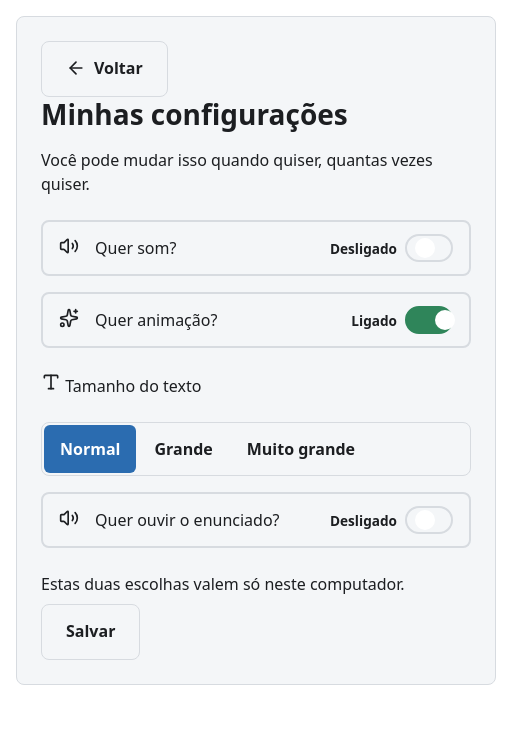
Test: StudentSensorySettings (3.9) › saves the updated profile via PATCH /users/:id/sensory-profile, same endpoint the onboarding uses
Click the switch named "quer som?" in the row of "Quer som?" at (429, 248), box [405,234,453,262]
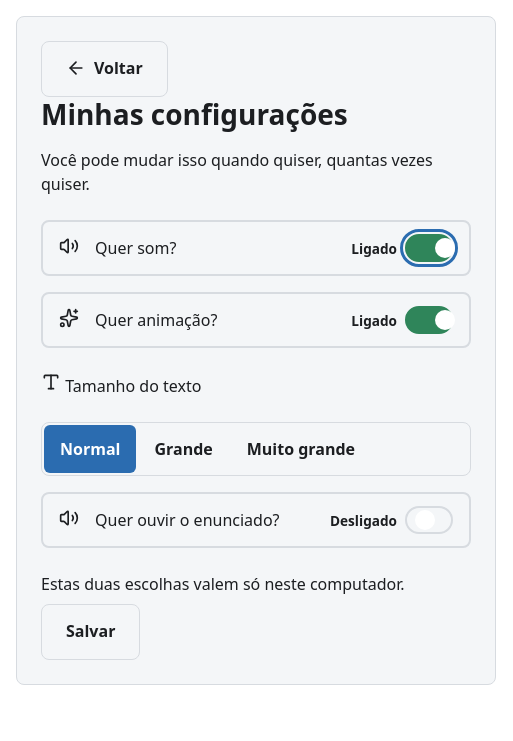
Click the button "Salvar" at (91, 632), box [41,604,140,660]
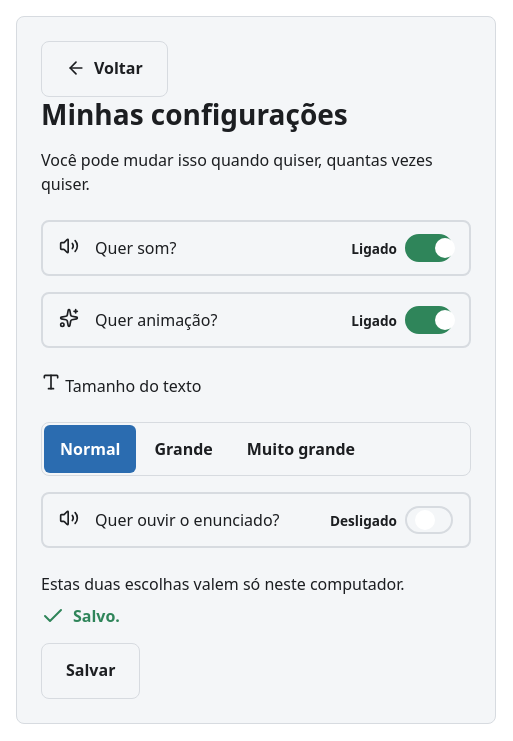
expect the text "Salvo." is shown: met, box [73,604,120,628]
